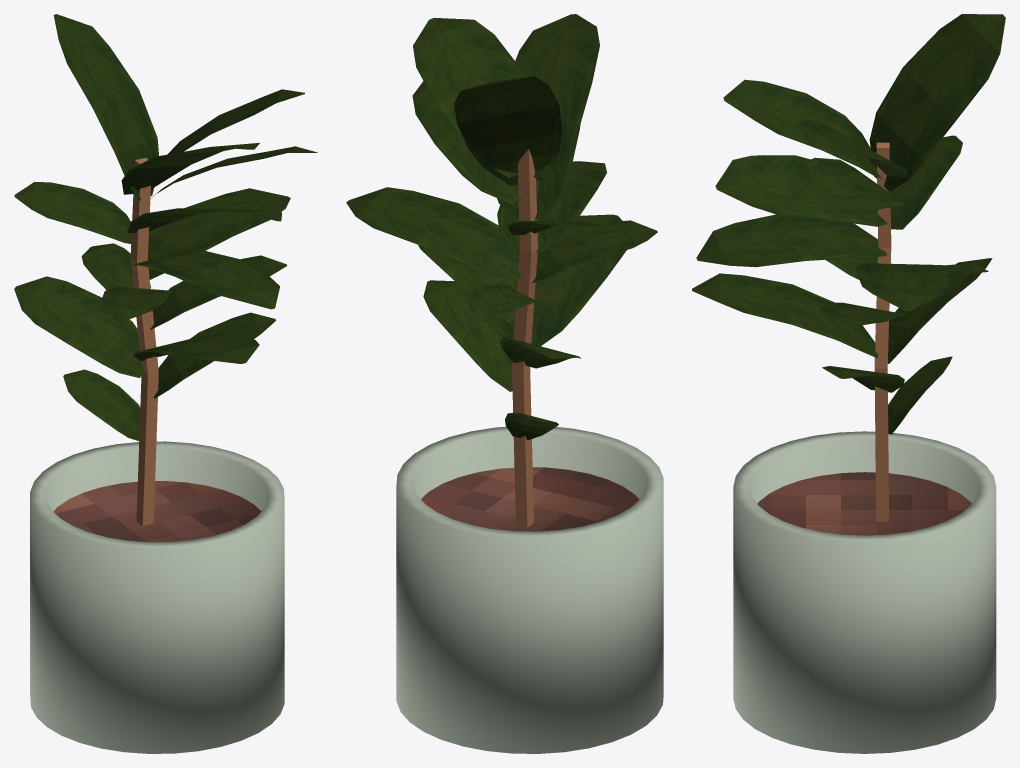
The model's file is BehindTree.glb.
The picture shows the model from 3 angles, left to right: view 1: azimuth 30°, elevation 25°; view 2: azimuth 150°, elevation 25°; view 3: azimuth 270°, elevation 25°; orthographic projection. The views are drawn at different scales.
Parts seen in each view (by area): view 1: floating plant.001, Plane.003, Cube.008; view 2: floating plant.001, Plane.003, Cube.008; view 3: floating plant.001, Plane.003, Cube.008.
Part boxes in pixels (<box>): floating plant.001: <box>30,441,284,753</box>; Plane.003: <box>14,14,317,441</box>; Cube.008: <box>130,157,158,525</box>; floating plant.001: <box>396,426,663,753</box>; Plane.003: <box>346,14,657,440</box>; Cube.008: <box>512,149,537,527</box>; floating plant.001: <box>733,431,996,753</box>; Plane.003: <box>692,14,1005,434</box>; Cube.008: <box>874,142,891,521</box>.
Size of the model in its own units: 1.04 by 2.43 by 1.04.
Materials: 2 (2 with a texture image).
